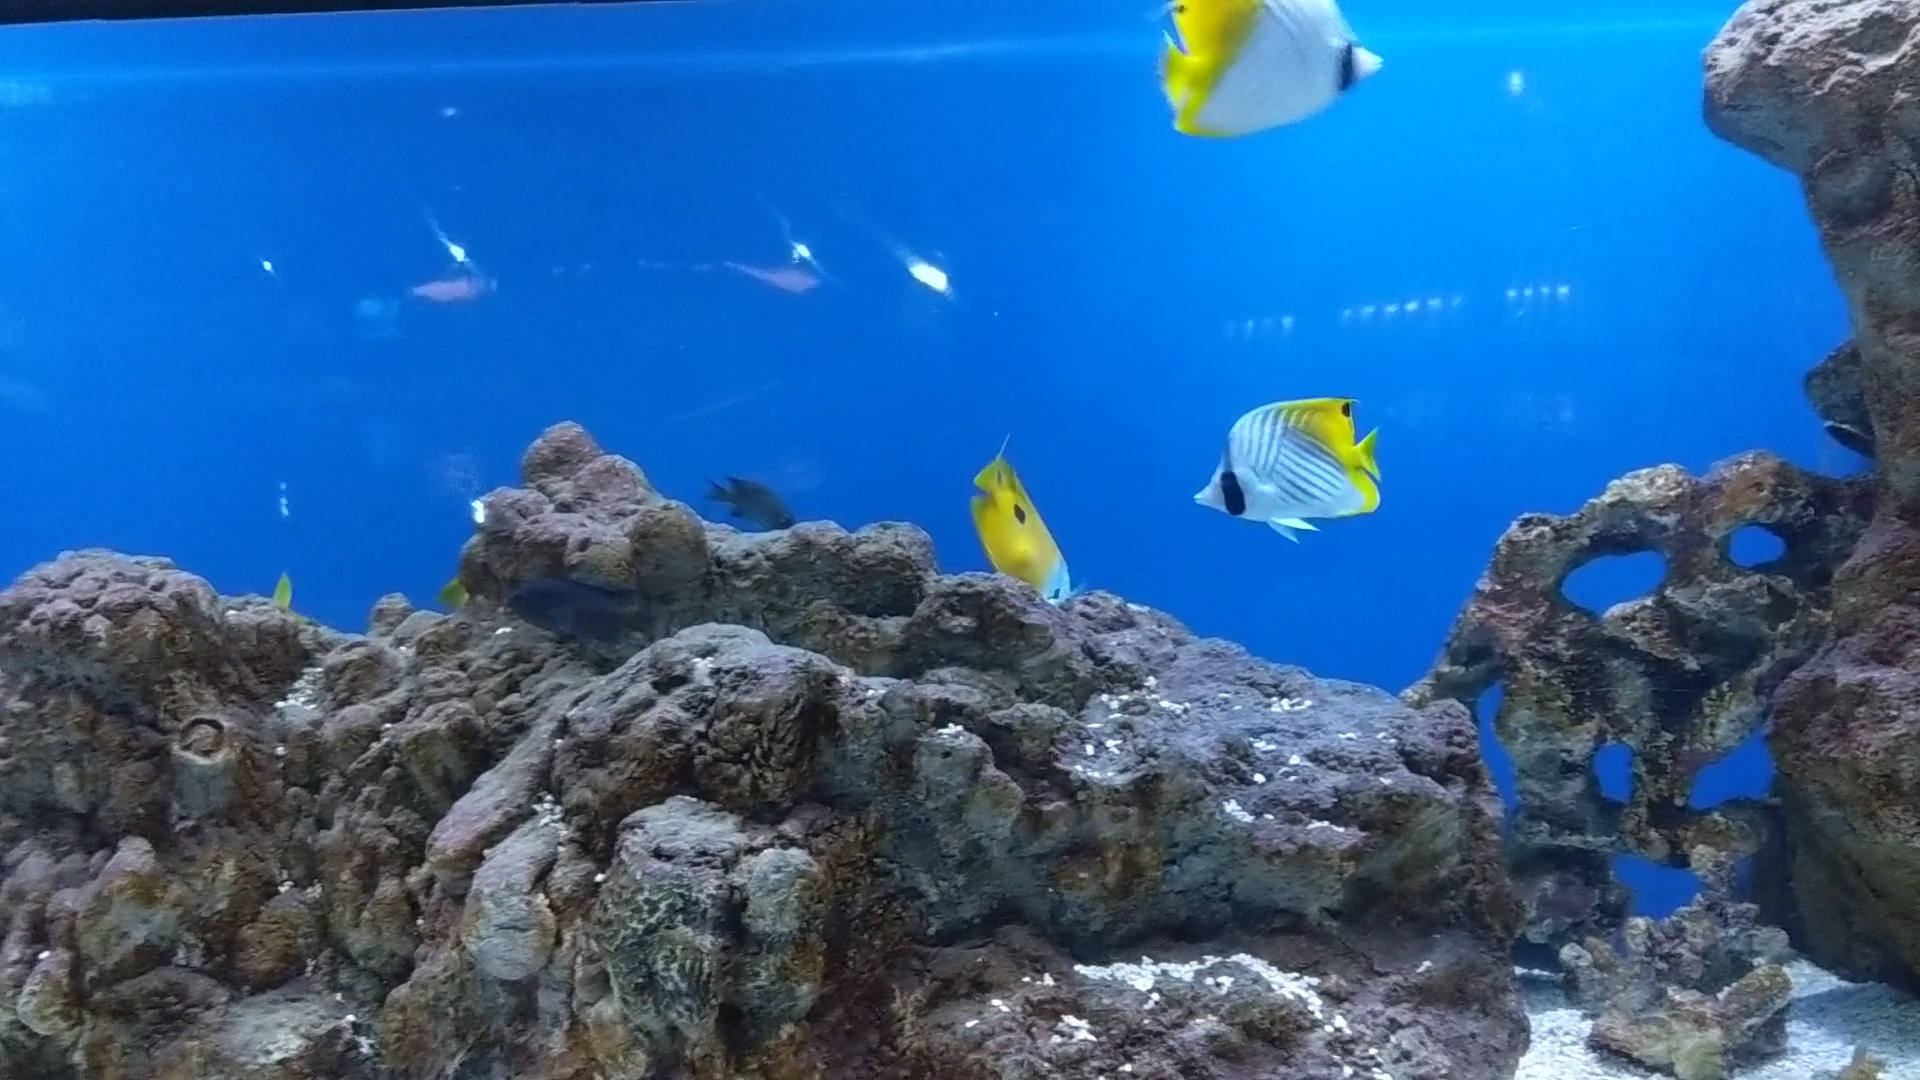butterflyfish: (1176, 398, 1393, 545), (1129, 0, 1354, 138)
rabbitfish: (955, 436, 1087, 603)
